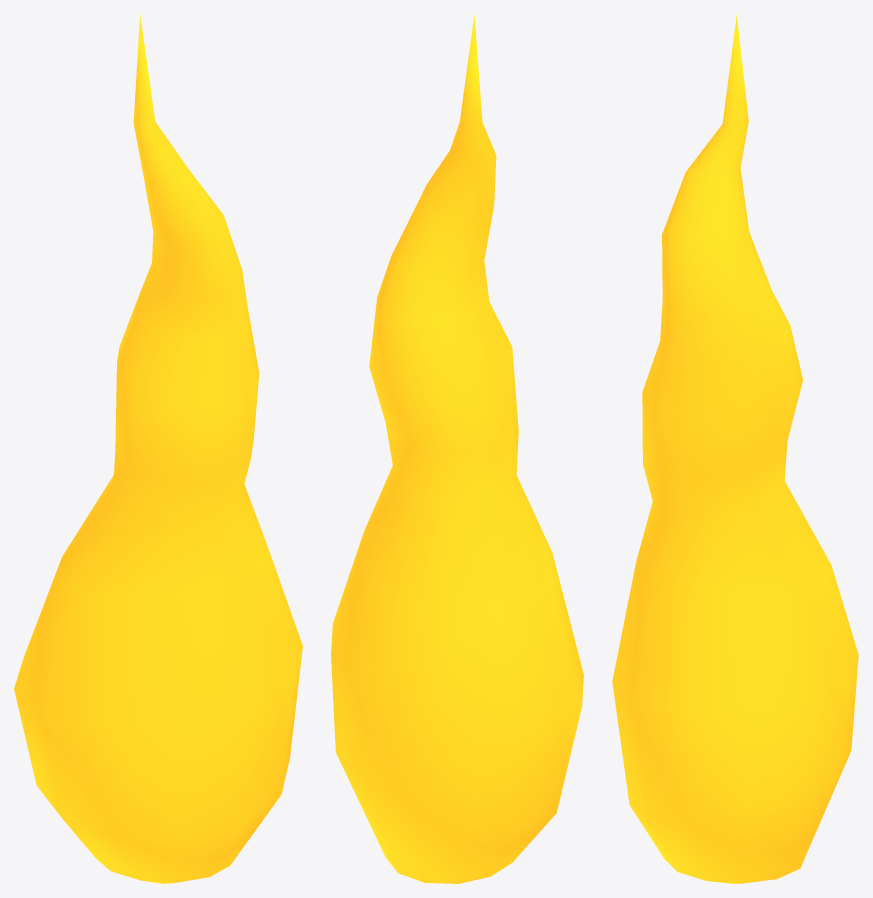
Rendered from ant_fuego.fbx.
The picture shows the model from 3 angles, left to right: view 1: azimuth 30°, elevation 25°; view 2: azimuth 150°, elevation 25°; view 3: azimuth 270°, elevation 25°; orthographic projection.
Parts seen in each view (by area): view 1: ant_llama; view 2: ant_llama; view 3: ant_llama.
Part boxes in pixels (x1,y1,x2,y2): ant_llama: (14,14,302,883); ant_llama: (331,14,583,883); ant_llama: (612,14,858,883).
Size of the model in its own units: 9.72 by 33.72 by 8.77.
